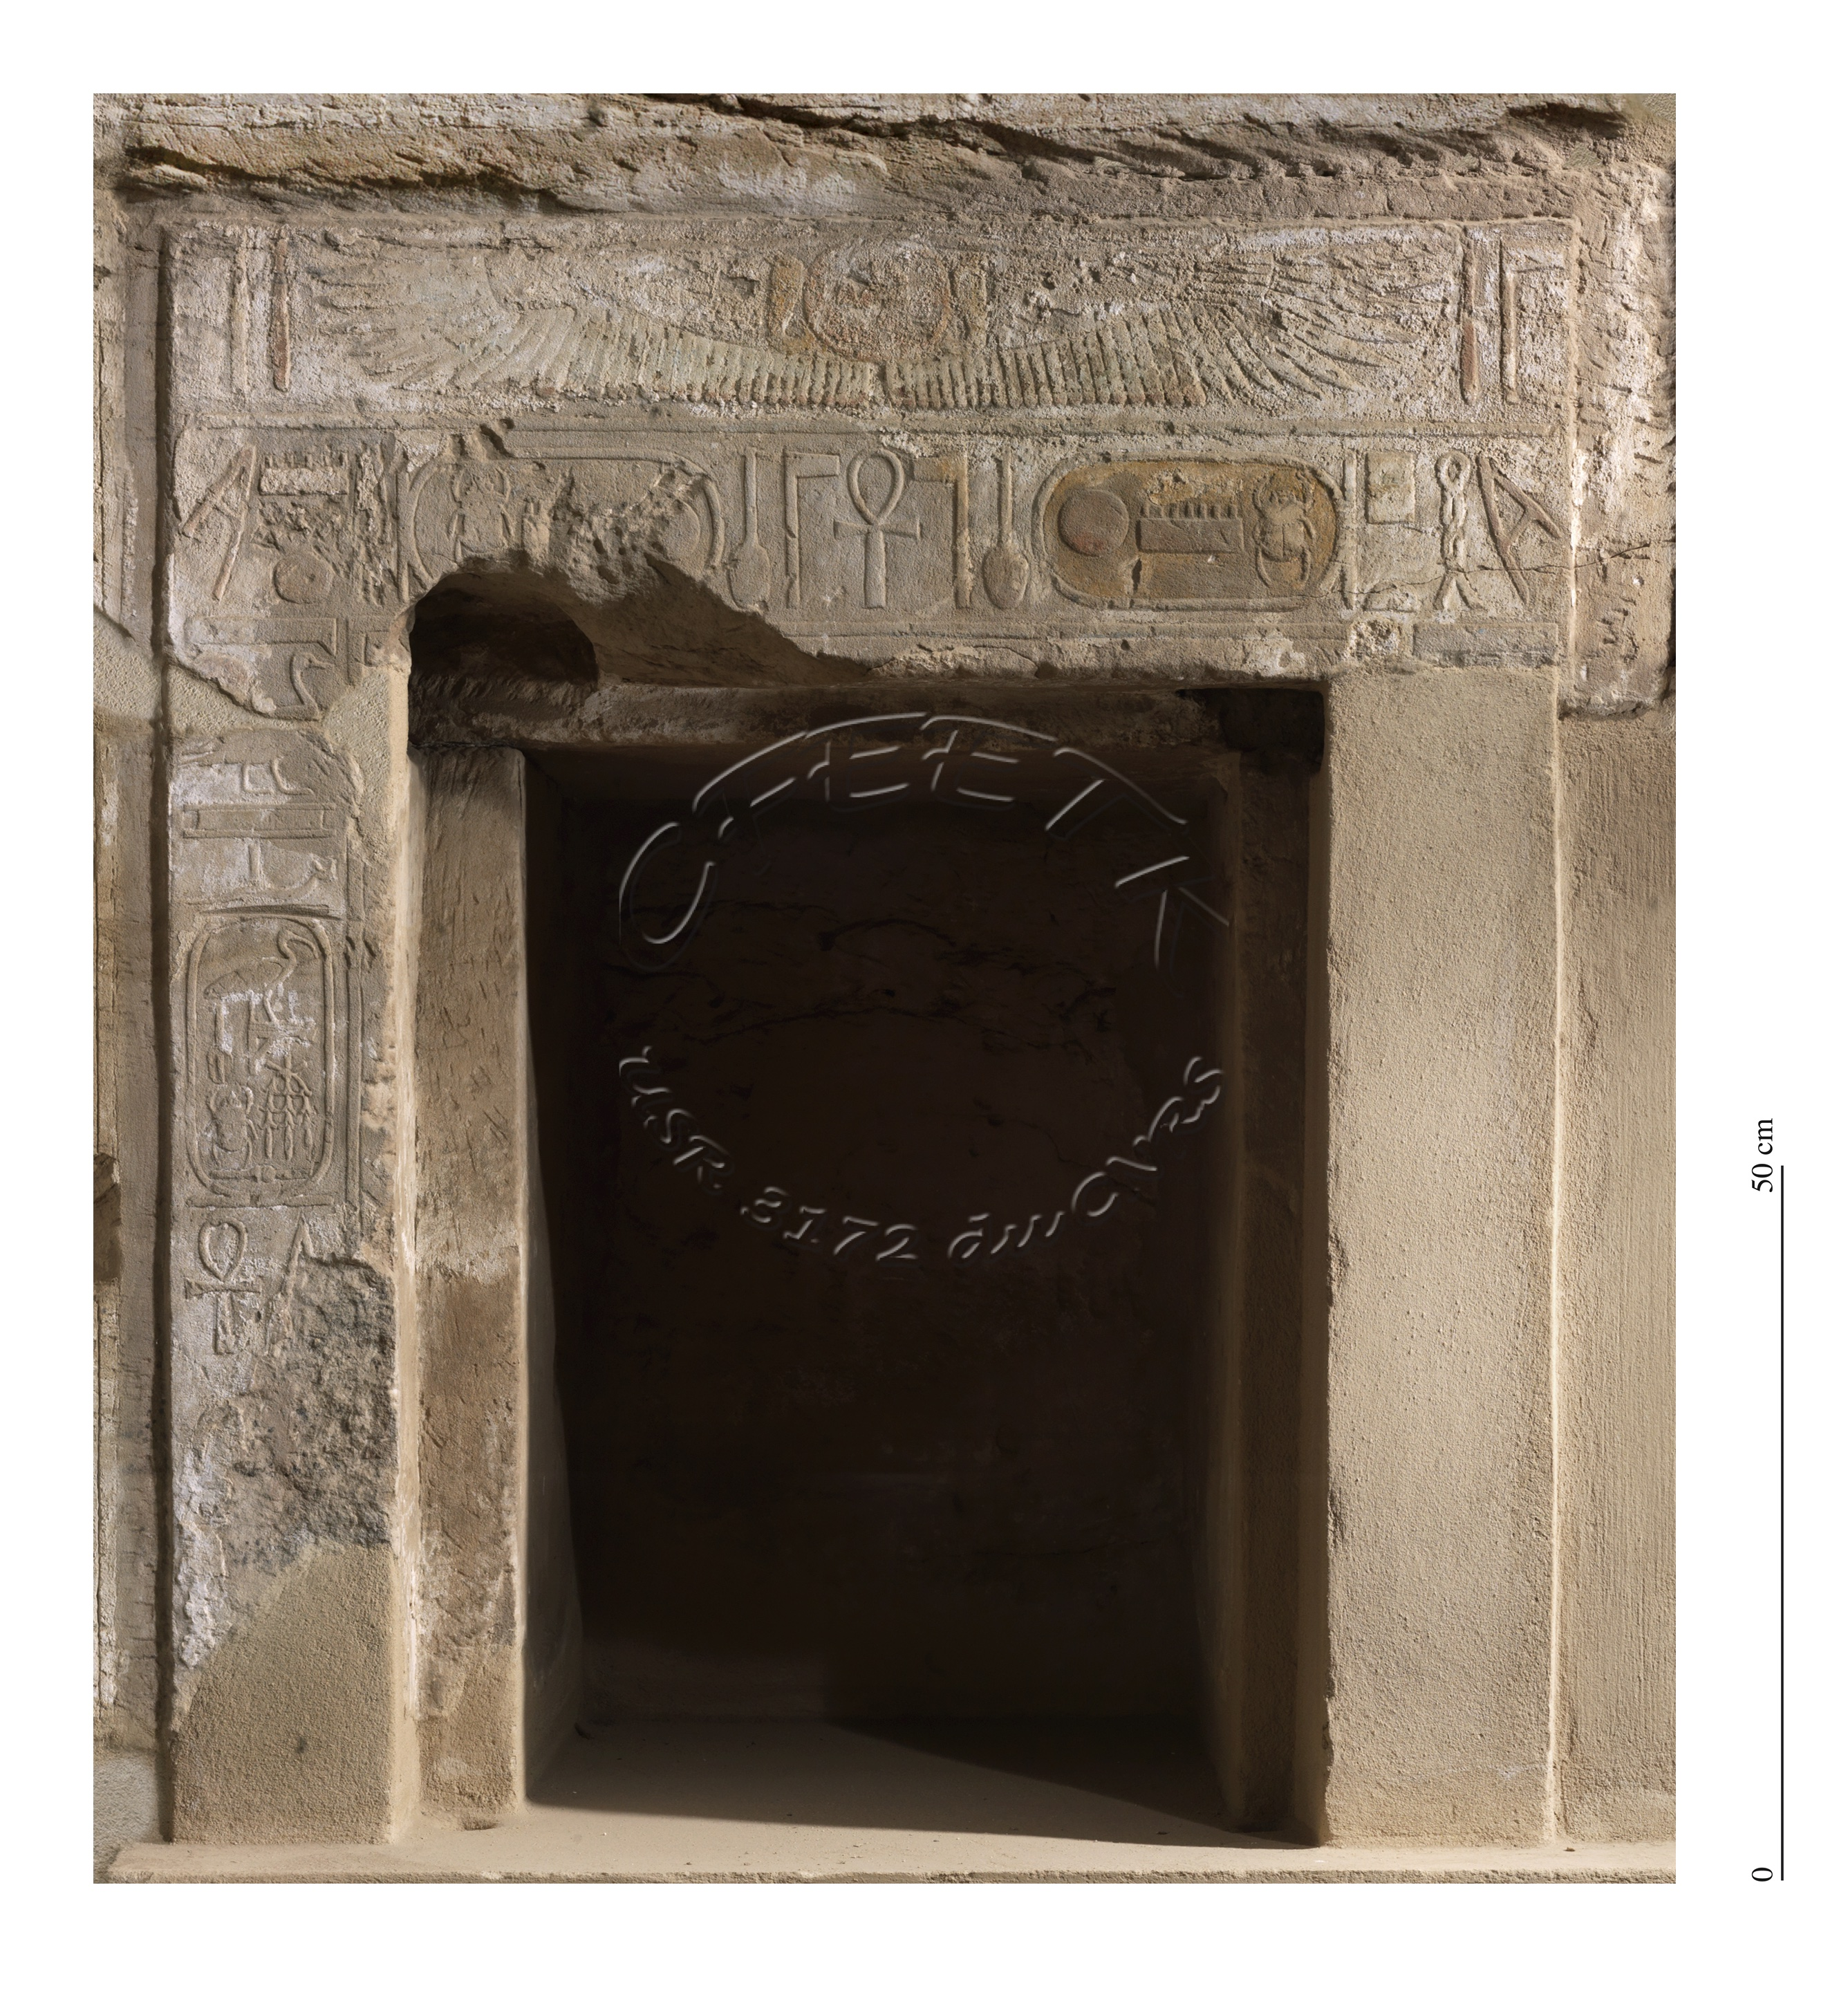F35: (713, 439, 795, 631), (975, 439, 1050, 620)
